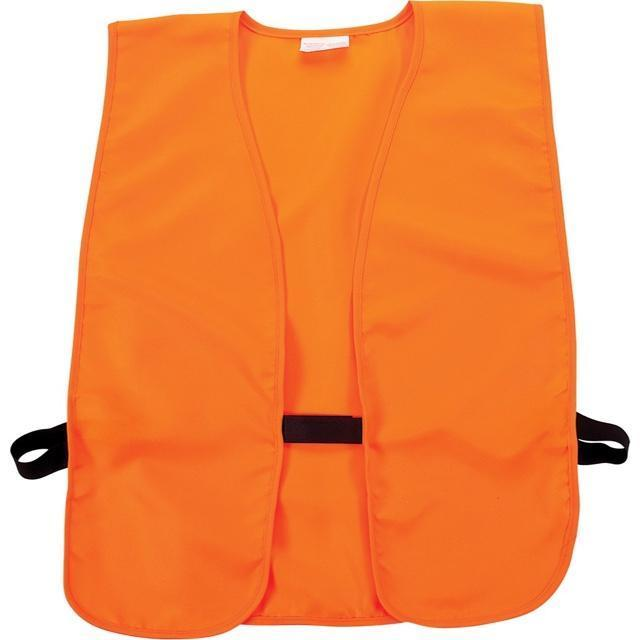vest: (63, 1, 582, 639)
